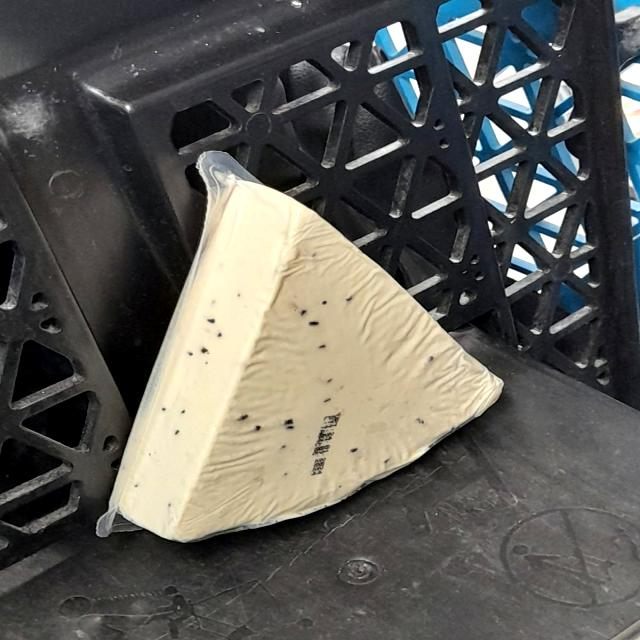cheese: (115, 178, 476, 527)
